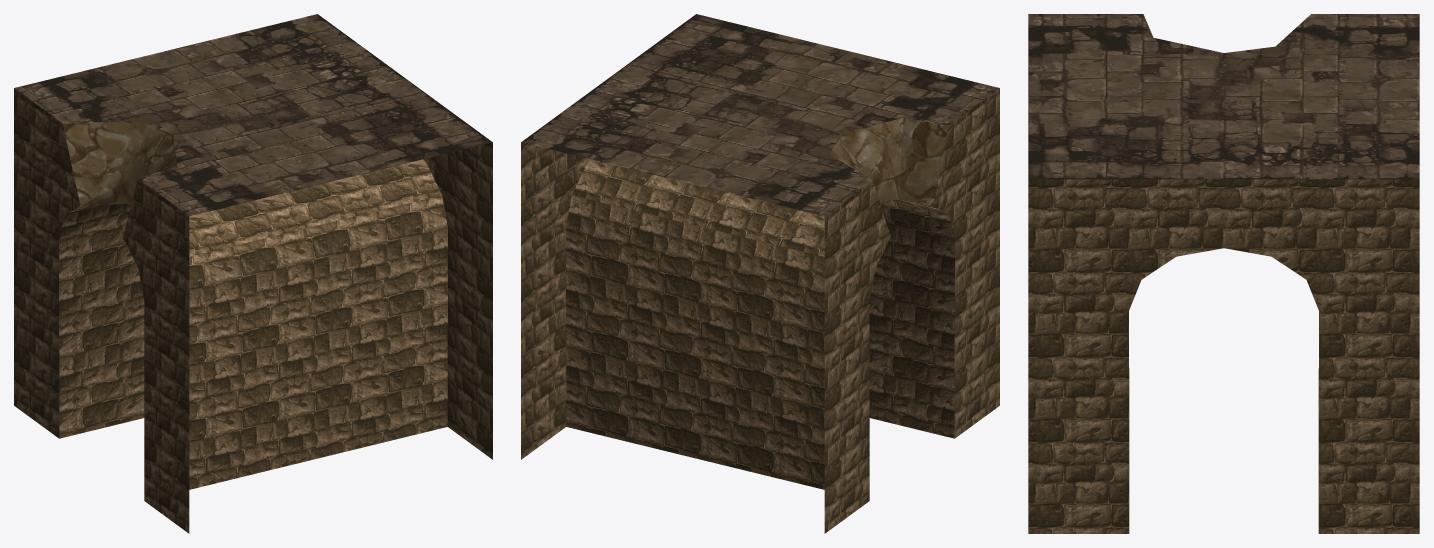
The model's file is Battle04_Wall_02.FBX.
The picture shows the model from 3 angles, left to right: view 1: azimuth 30°, elevation 25°; view 2: azimuth 150°, elevation 25°; view 3: azimuth 270°, elevation 25°; orthographic projection. The views are drawn at different scales.
Parts seen in each view (by area): view 1: Battle04_Wall_02_02, Battle04_Wall_02_01, Battle04_Wall_02_03; view 2: Battle04_Wall_02_02, Battle04_Wall_02_01, Battle04_Wall_02_03; view 3: Battle04_Wall_02_02, Battle04_Wall_02_01.
Boxes of the visible parts, x1,y1,x2,y2 form: Battle04_Wall_02_02: [14, 88, 492, 533]; Battle04_Wall_02_01: [14, 14, 492, 216]; Battle04_Wall_02_03: [63, 120, 176, 205]; Battle04_Wall_02_02: [521, 88, 999, 533]; Battle04_Wall_02_01: [521, 14, 999, 216]; Battle04_Wall_02_03: [829, 117, 948, 205]; Battle04_Wall_02_02: [1028, 179, 1419, 533]; Battle04_Wall_02_01: [1028, 14, 1419, 179].
Bounding box in the file's own units: 16 × 16 × 16.
